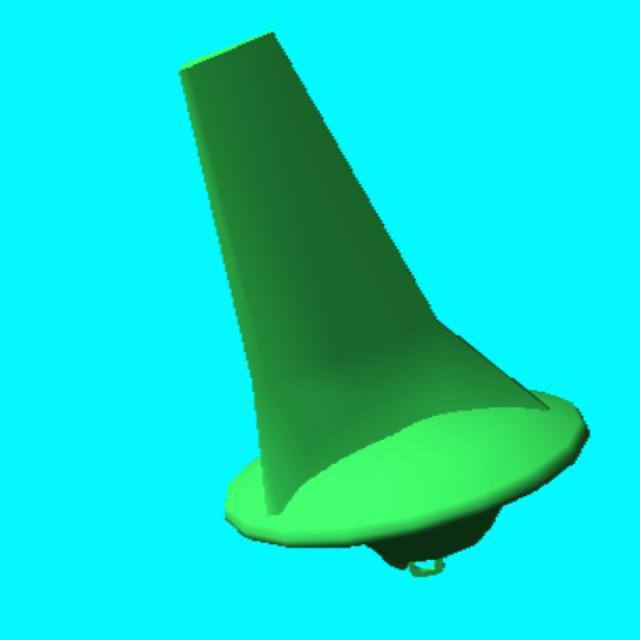GreenBuoy: (180, 34, 587, 567)
